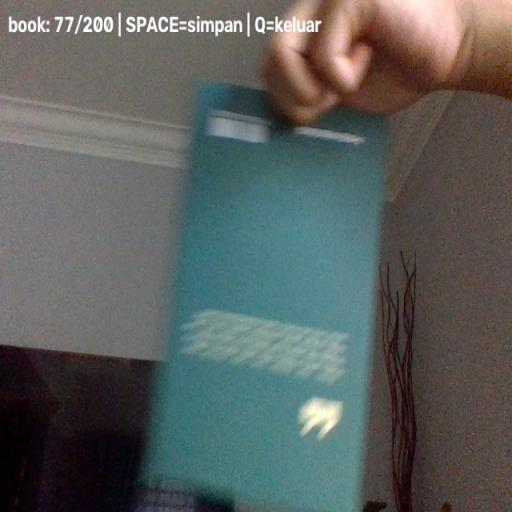Book: (140, 81, 390, 512)
